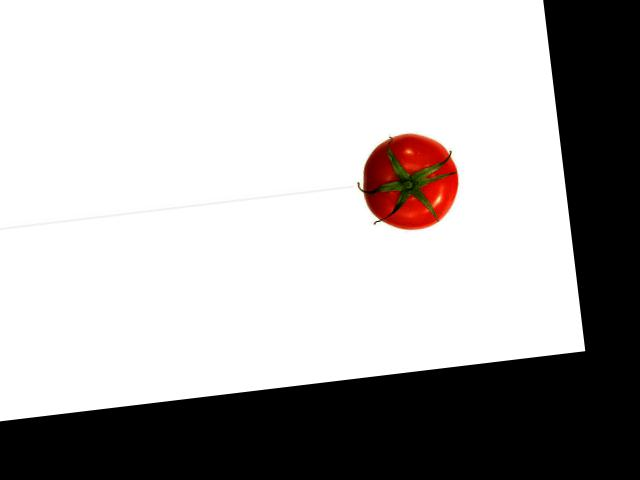tomato: (357, 128, 464, 234)
